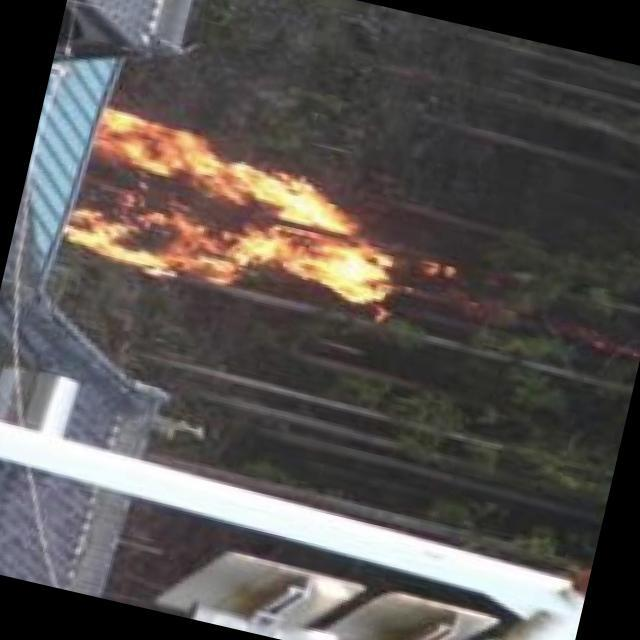Fire: (58, 104, 431, 343)
